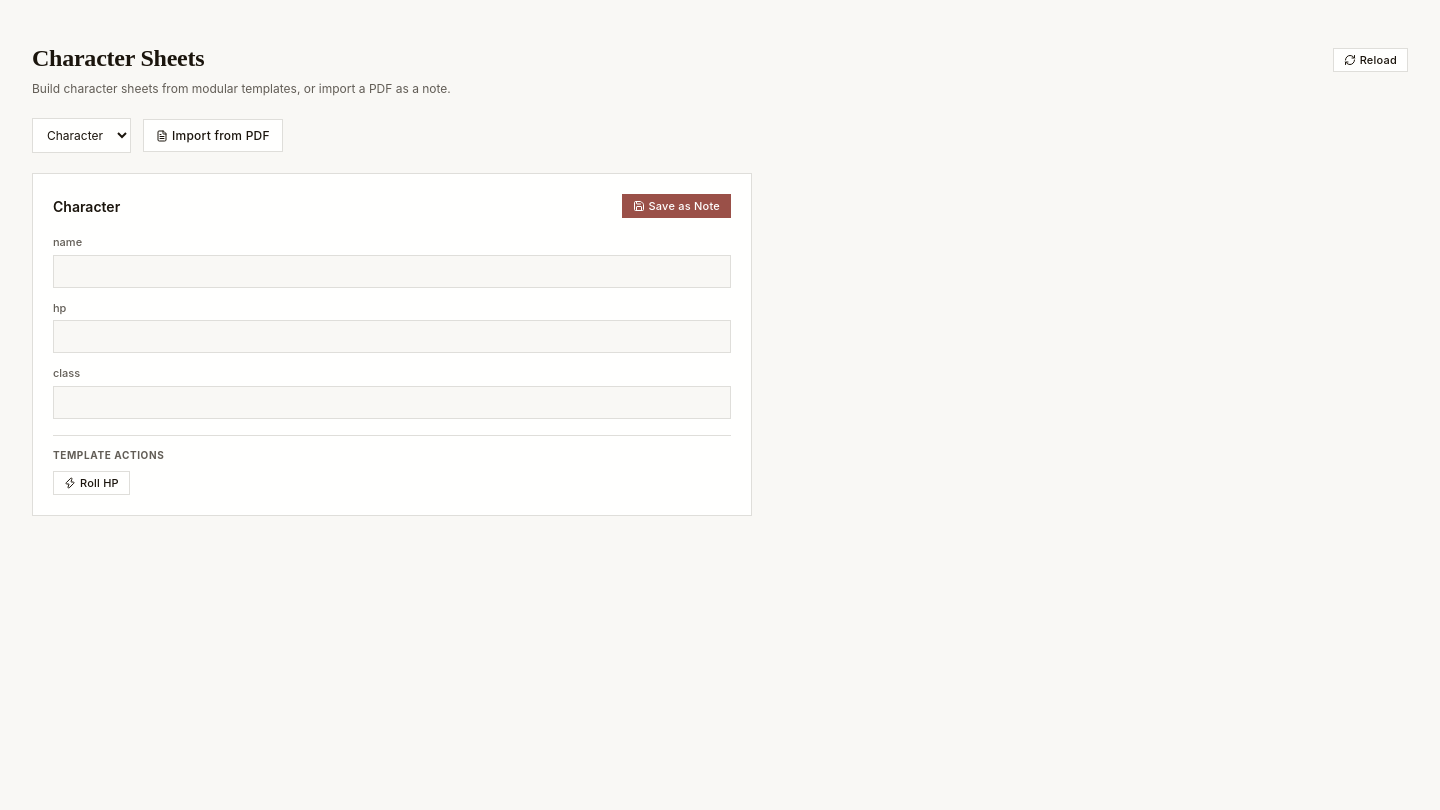
Test: CharacterSheetView › runs a template action via execute_plugin_hook
expect the heading "Character" is shown: met, box [53,196,120,216]
Click the button "Roll HP".
click(91, 482)  # box [53,470,130,494]
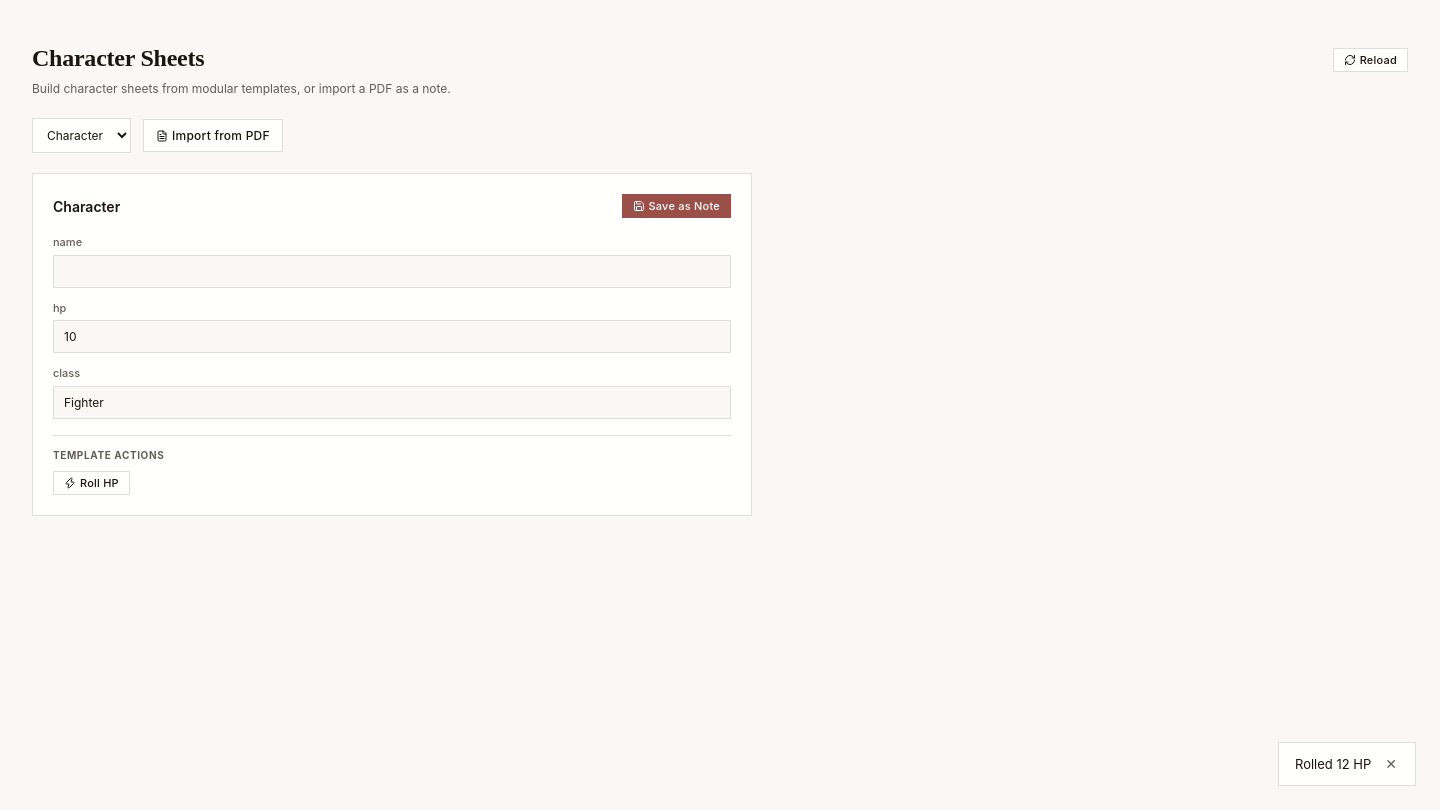
expect the message shows "Rolled 12 HP": met, box [1295,756,1371,772]
